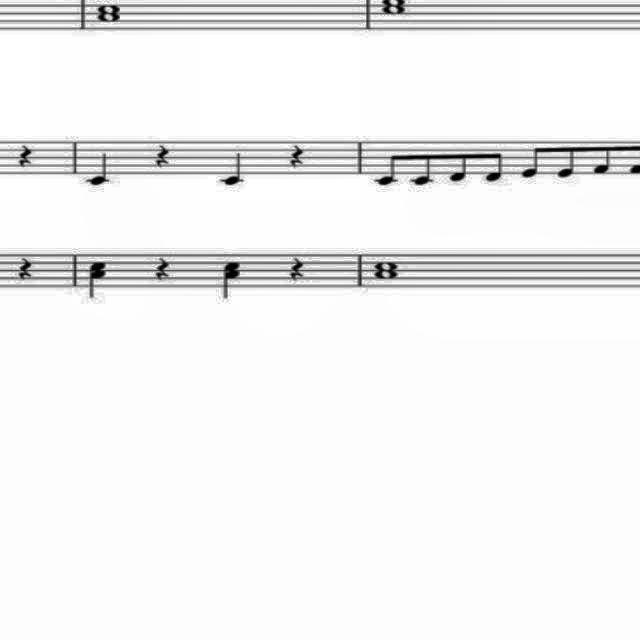Eighth-note: (369, 142, 401, 192), (408, 143, 439, 190), (518, 139, 546, 183), (448, 134, 472, 184), (482, 142, 506, 186), (554, 141, 578, 185), (587, 142, 615, 178)
Quarter-note: (82, 146, 118, 190), (220, 148, 250, 192)
Quarter-rest: (148, 136, 176, 170), (12, 252, 38, 284), (284, 139, 308, 173), (286, 252, 310, 286), (13, 135, 34, 173), (150, 253, 173, 287)
